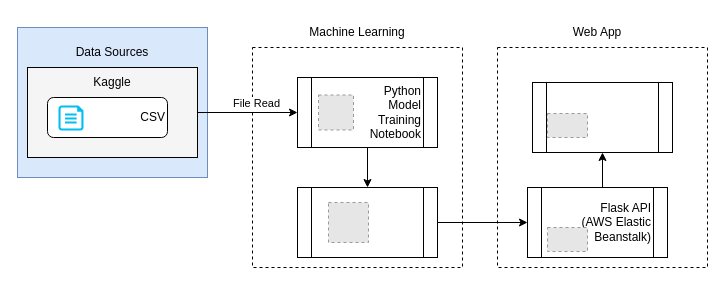
Some shapes in this 725 by 285 pixel diagram are drawn without their labels. Grey dashed boxes stand in for pictures. The box of each missing label's shape, as (x1, y1, x2, y2) in pixels:
App Front End (AWS Elastic Beanstalk): (532, 82, 672, 152)
Trained Model: (296, 186, 438, 258)
